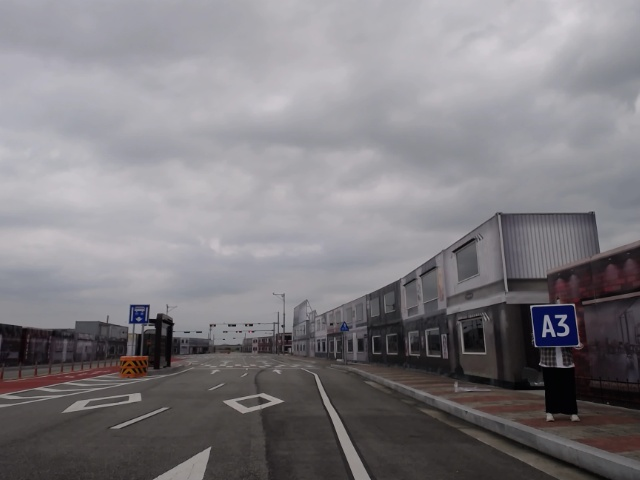delivery_a3: (531, 304, 580, 347)
